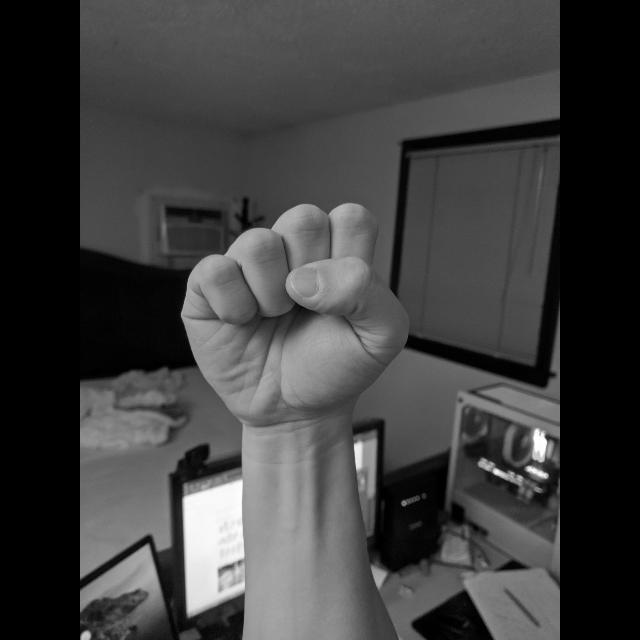S: (176, 199, 414, 431)
